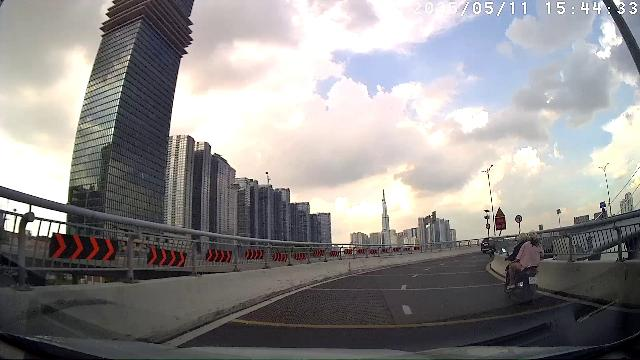123a-cam-re-trai: (516, 215, 522, 223)
